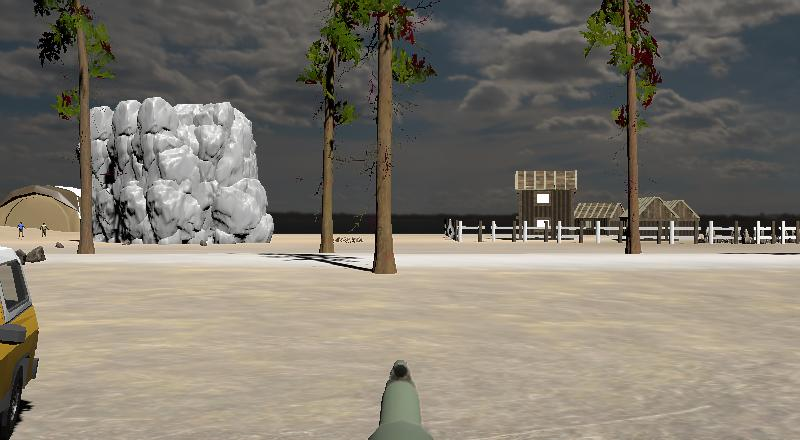House: (515, 169, 577, 239), (637, 197, 677, 241), (575, 203, 624, 237), (666, 199, 700, 240)
Human: (16, 219, 27, 239)
car: (0, 240, 42, 440)
